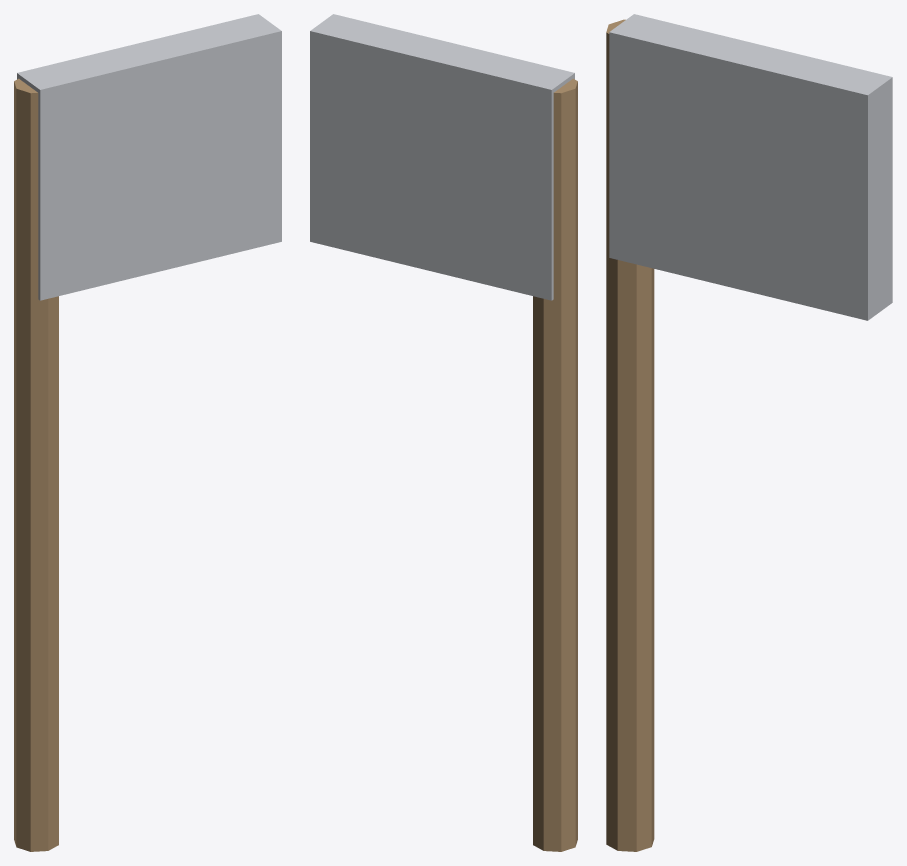
File: sm_axe.glb
3 views of the same model, side by side, from view 1: azimuth 30°, elevation 25°; view 2: azimuth 150°, elevation 25°; view 3: azimuth 330°, elevation 25° (orthographic). The views are drawn at different scales.
Visible parts, largest first — view 1: sm_axe; view 2: sm_axe; view 3: sm_axe.
Boxes of the visible parts, <box> form: sm_axe: <box>14,14,281,851</box>; sm_axe: <box>310,14,577,851</box>; sm_axe: <box>606,14,892,851</box>.
Size of the model in its own units: 0.315 by 0.905 by 0.05.
